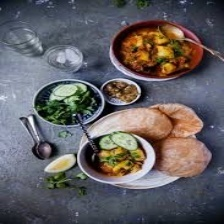sabzi: (116, 25, 197, 77)
